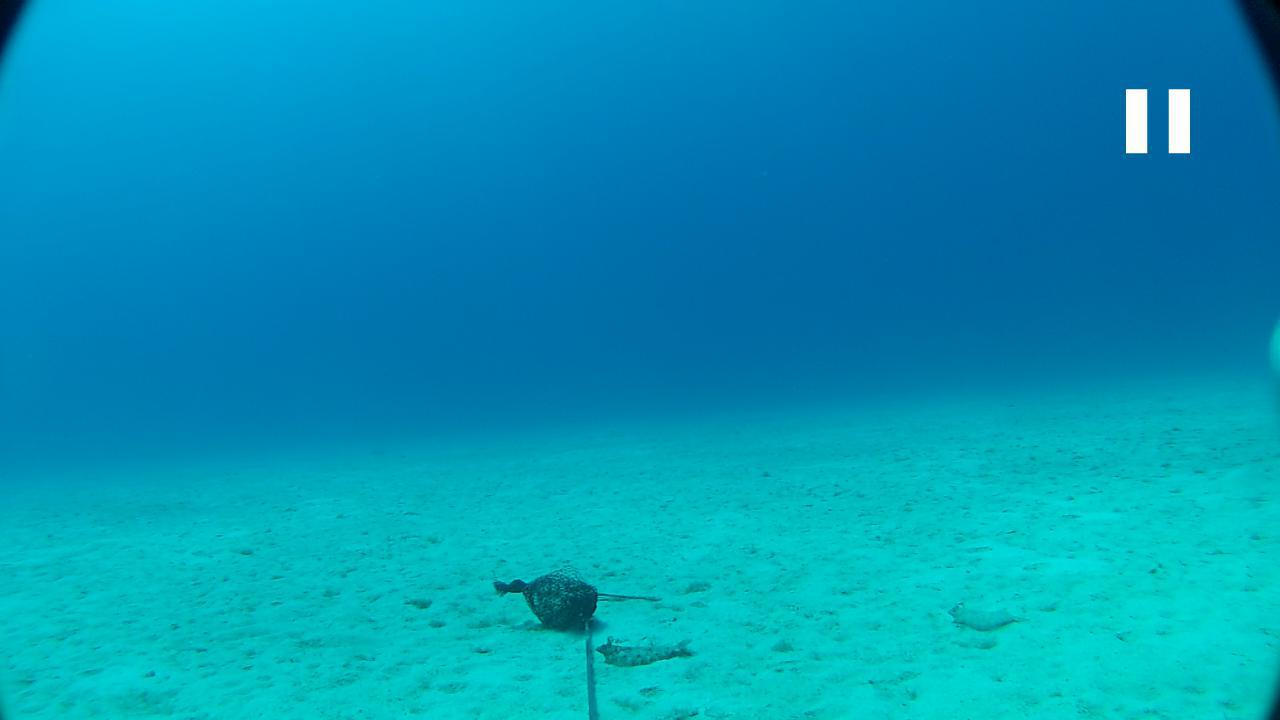bothus: (937, 598, 1034, 635), (593, 634, 690, 668)
